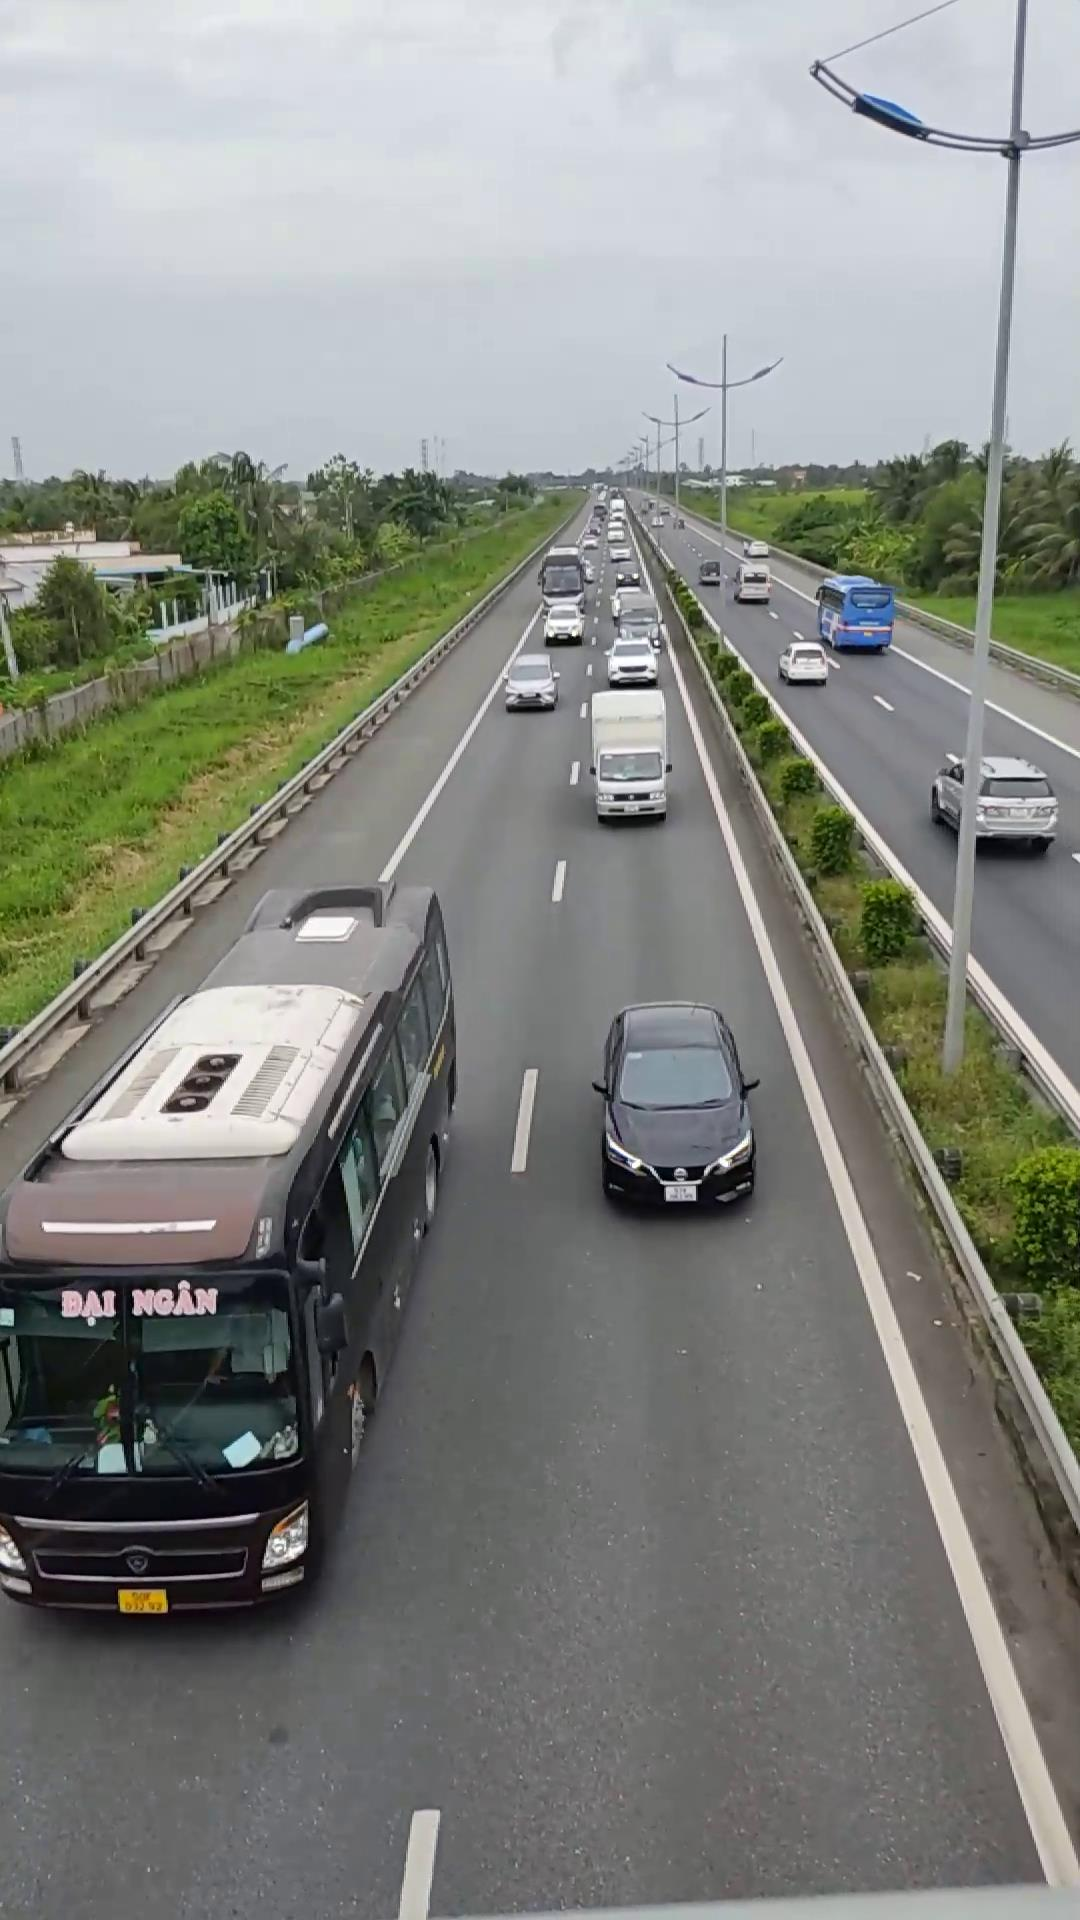bus: (0, 877, 462, 1613)
car: (589, 1000, 760, 1213), (928, 752, 1059, 852), (578, 740, 673, 822)
